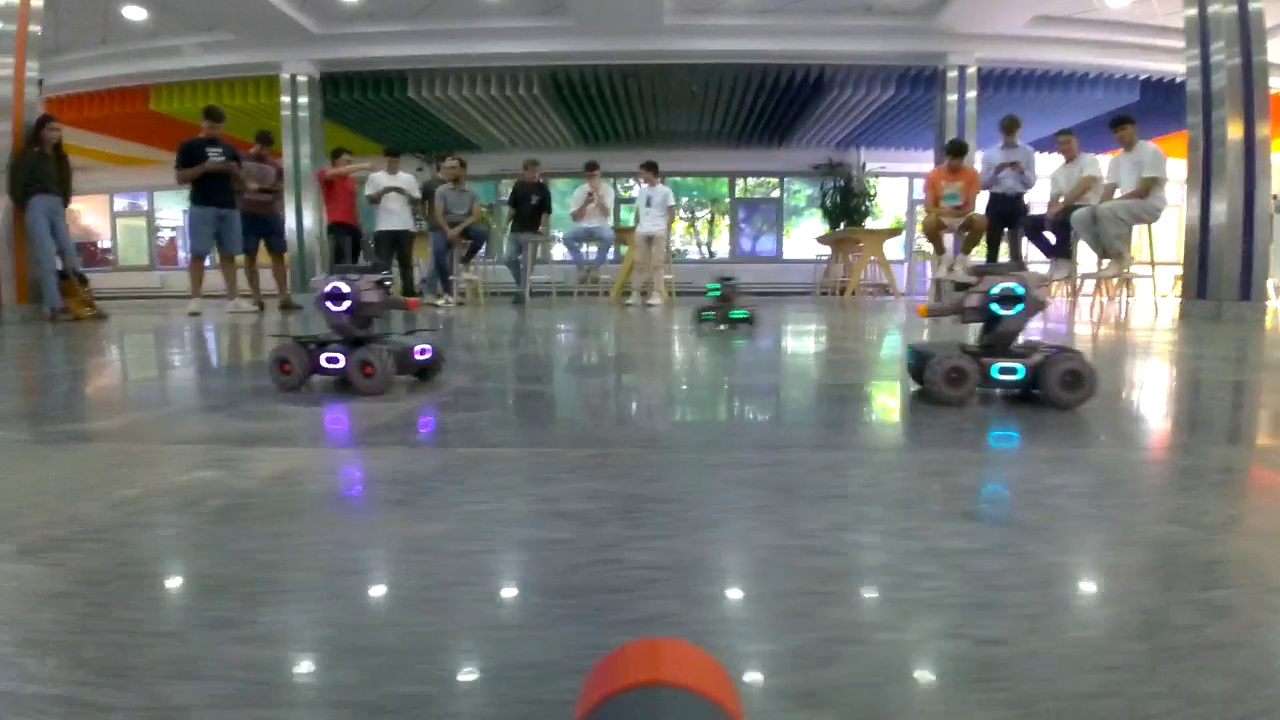robot: (903, 261, 1097, 407), (265, 267, 445, 397), (693, 274, 756, 329)
